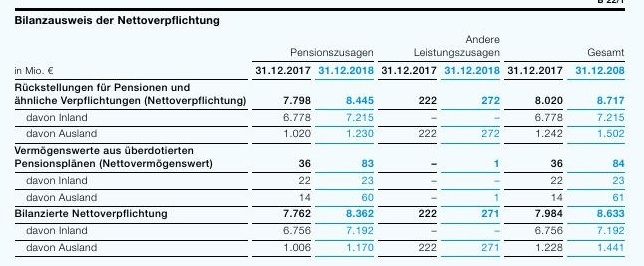table: (0, 0, 644, 266)
